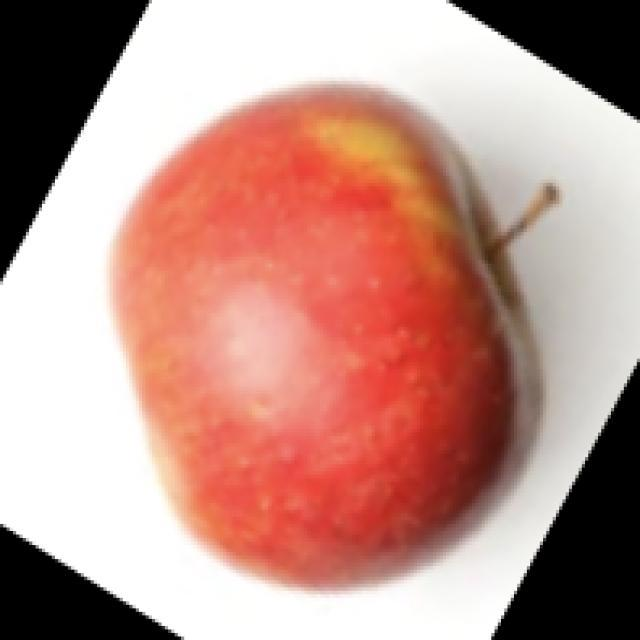Fresh Apple: (128, 90, 537, 557)
